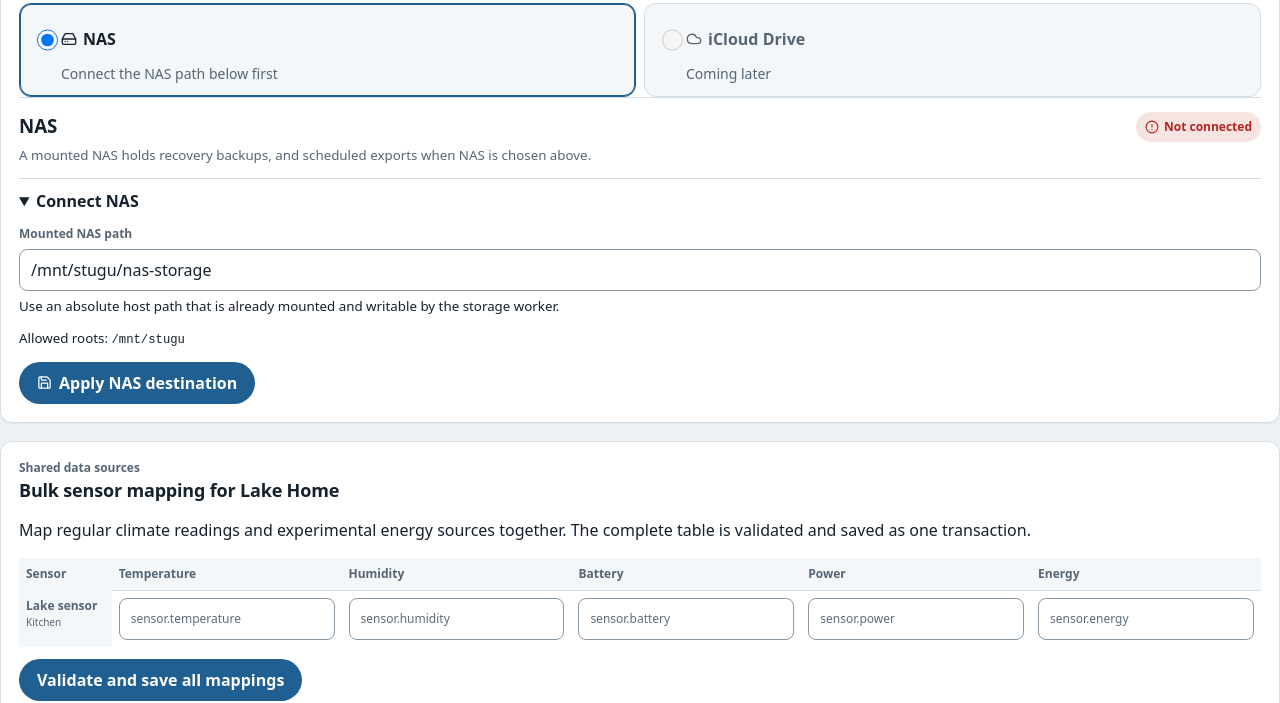
Test: SetupOperationsPanel › ignores a stale Home load and keeps save errors scoped to the selected Home
This screenshot has width=1280, height=703.
(page scrolled)
In the field named "Lake sensor Temperature source ID": [227, 619] box [119, 598, 335, 640], type "sensor.lake_temperature"
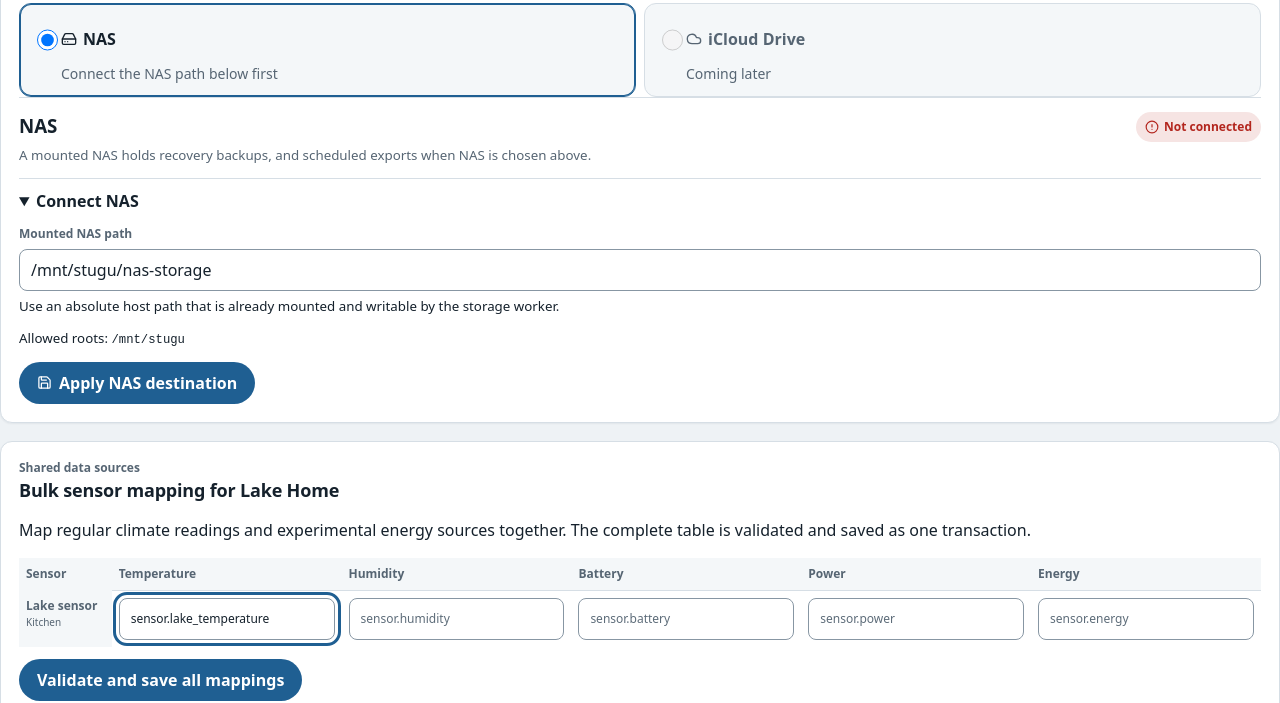
Click the button "Validate and save all mappings": [161, 680] box [19, 659, 302, 701]
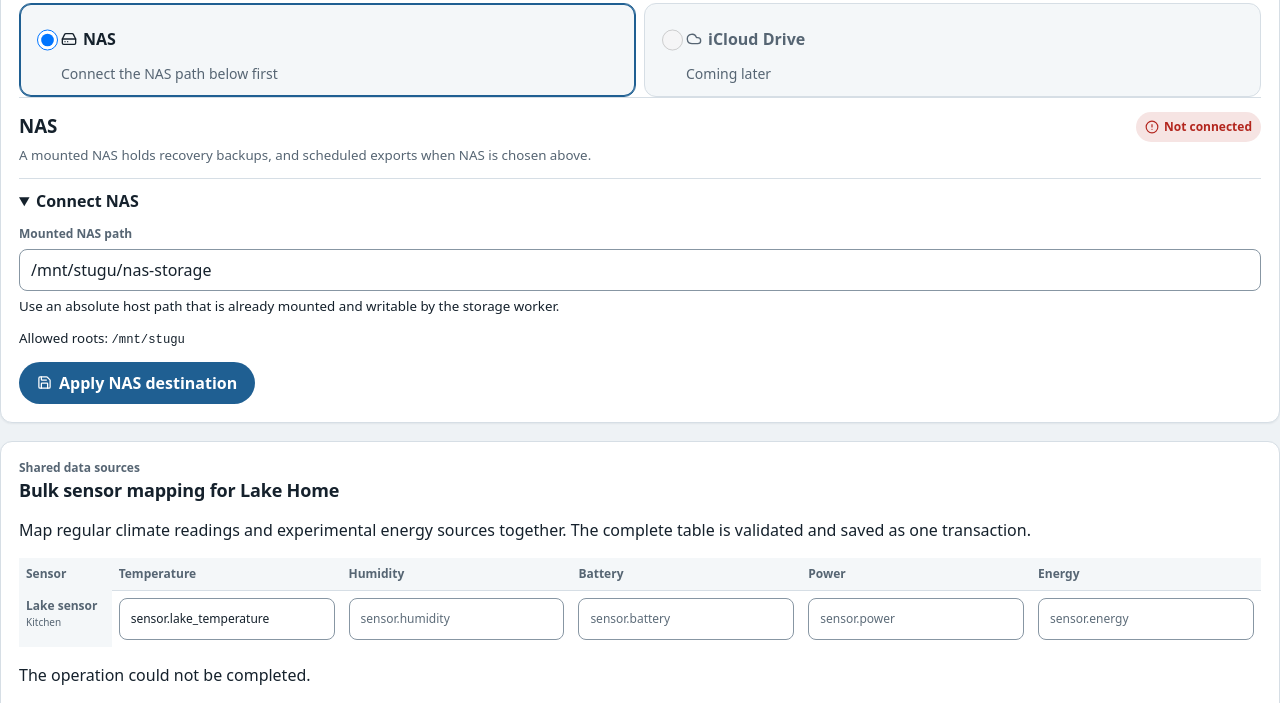
expect the message reads "The operation could not be completed.": met, box [19, 664, 311, 686]
